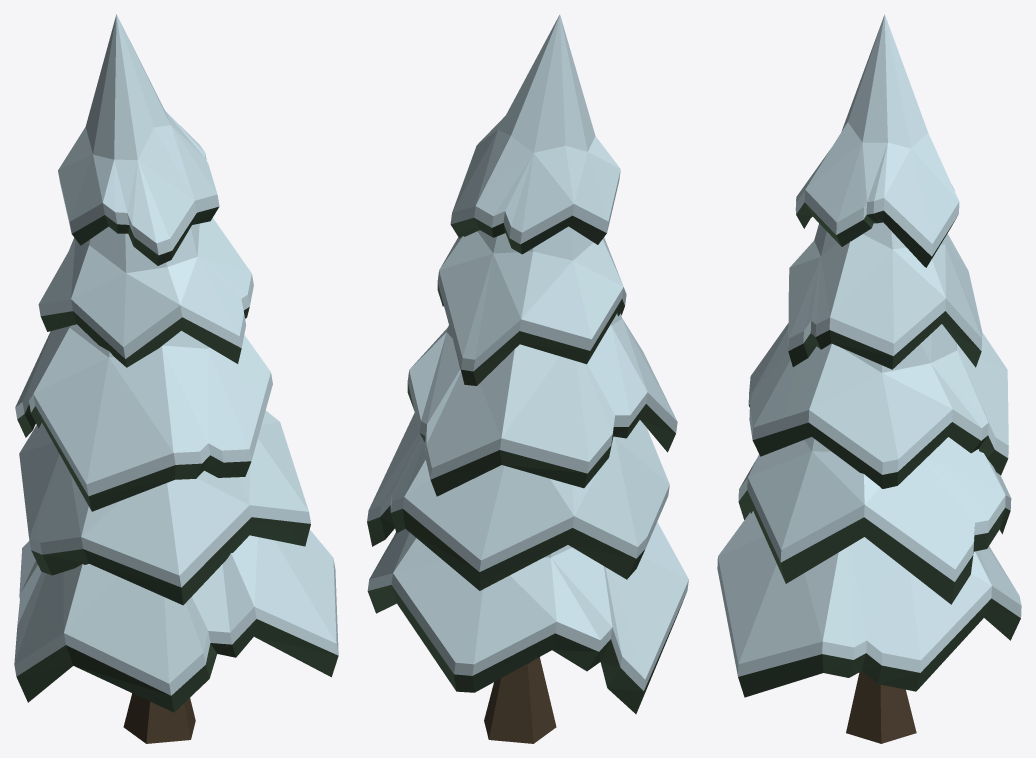
The model's file is SM_Env_TreePine_03_Snow.gltf.
The picture shows the model from 3 angles, left to right: view 1: azimuth 30°, elevation 25°; view 2: azimuth 150°, elevation 25°; view 3: azimuth 270°, elevation 25°; orthographic projection. The views are drawn at different scales.
Visible parts, largest first — view 1: SM_Env_TreePine_03_Snow; view 2: SM_Env_TreePine_03_Snow; view 3: SM_Env_TreePine_03_Snow.
Boxes of the visible parts, bbox=[...] form: SM_Env_TreePine_03_Snow: bbox=[14, 14, 338, 743]; SM_Env_TreePine_03_Snow: bbox=[367, 14, 688, 743]; SM_Env_TreePine_03_Snow: bbox=[717, 14, 1021, 743].
Size of the model in its own units: 3.46 by 8.54 by 3.39.
1 material, 1 textured.
